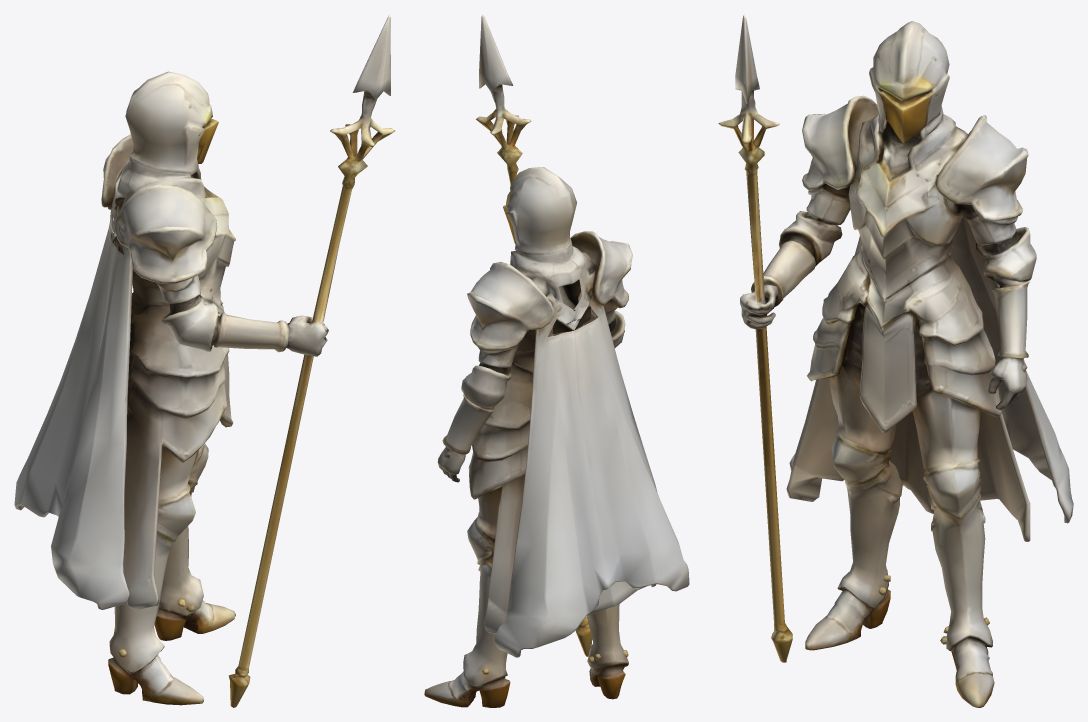
3 views of the same model, side by side, from view 1: azimuth 30°, elevation 25°; view 2: azimuth 150°, elevation 25°; view 3: azimuth 270°, elevation 25° (orthographic). The views are drawn at different scales.
Visible parts, largest first — view 1: tripo_node_a1288070-529f-4696-9c8f-cb77d294436a; view 2: tripo_node_a1288070-529f-4696-9c8f-cb77d294436a; view 3: tripo_node_a1288070-529f-4696-9c8f-cb77d294436a.
Part boxes in pixels (x1,y1,x2,y2): tripo_node_a1288070-529f-4696-9c8f-cb77d294436a: (14, 14, 394, 707); tripo_node_a1288070-529f-4696-9c8f-cb77d294436a: (424, 14, 689, 707); tripo_node_a1288070-529f-4696-9c8f-cb77d294436a: (718, 14, 1073, 707).
Size of the model in its own units: 0.4403 by 1 by 0.4481.
1 material, 1 textured.
